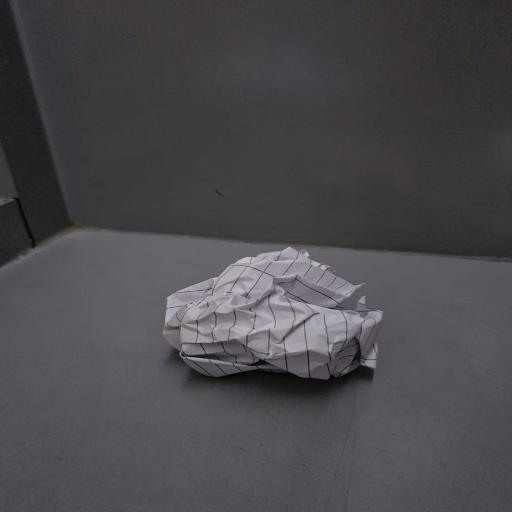Kertas: (163, 247, 382, 379)
